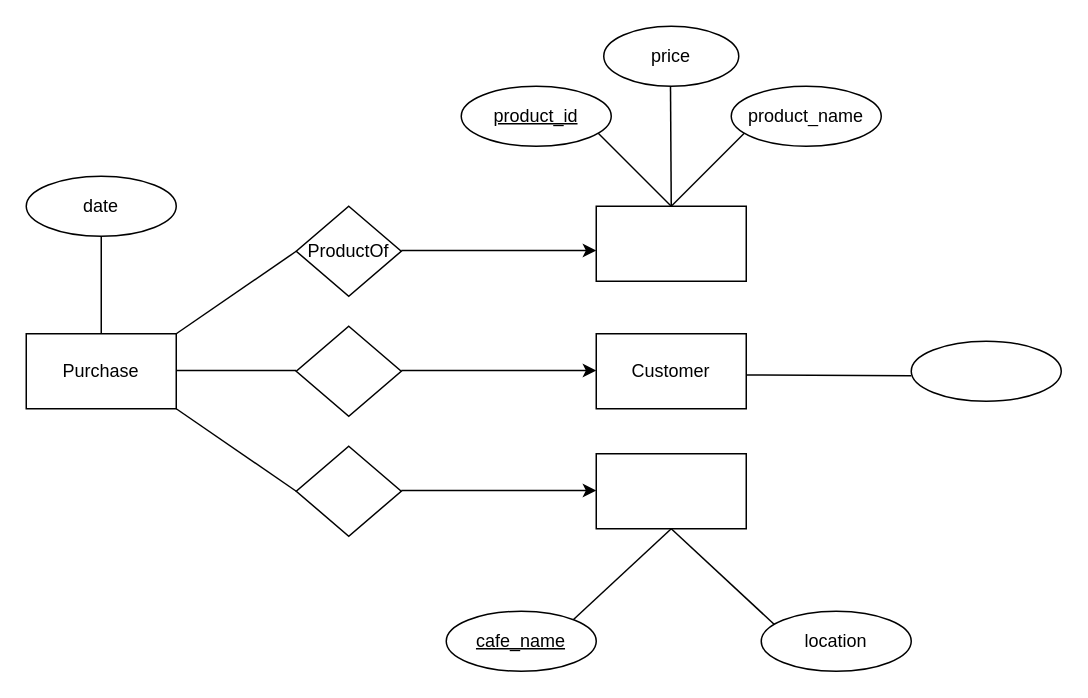
Image size: 1088x698. Some labels were removed from this diagram. Each missing label, with the centre of its shape:
"BuyerOf" belongs at pixel 348 490.
"Cafe" belongs at pixel 670 490.
"CafeOf" belongs at pixel 348 370.
"customer_id" belongs at pixel 985 370.
"Product" belongs at pixel 670 243.
